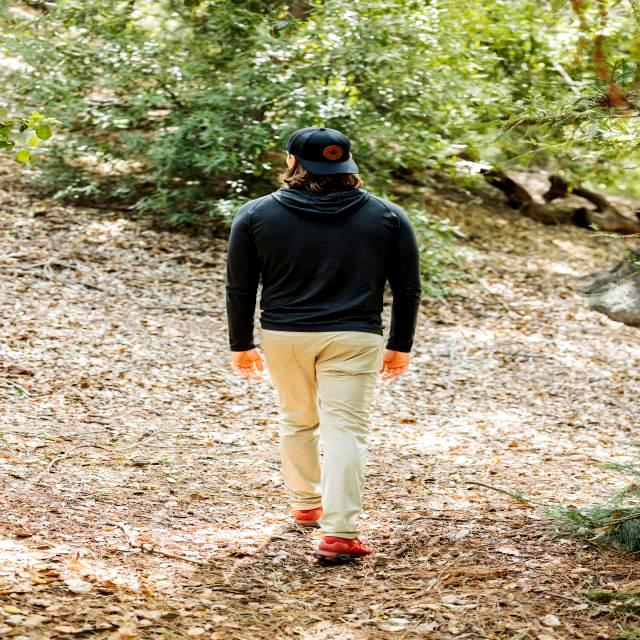no_hard_hat: (287, 127, 358, 175)
person: (226, 127, 421, 563)
